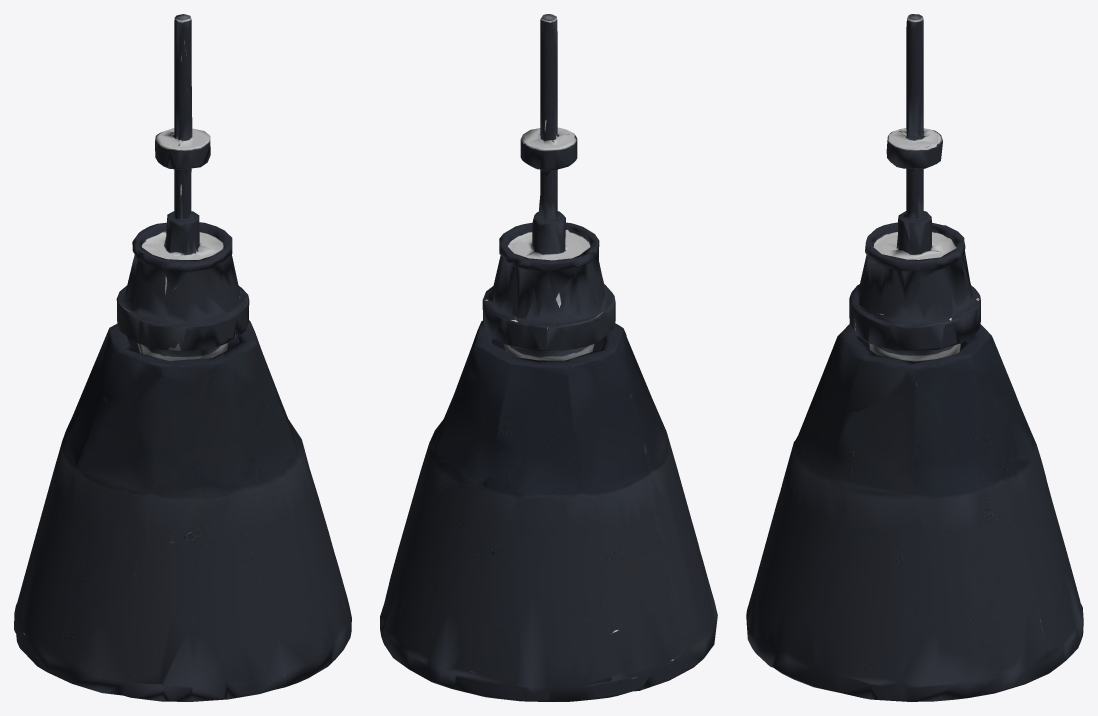
File: pendant.glb
3 views of the same model, side by side, from view 1: azimuth 30°, elevation 25°; view 2: azimuth 150°, elevation 25°; view 3: azimuth 270°, elevation 25° (orthographic).
Size of the model in its own units: 0.9463 by 1.9 by 0.9458.
Materials: 1 (1 with a texture image).
